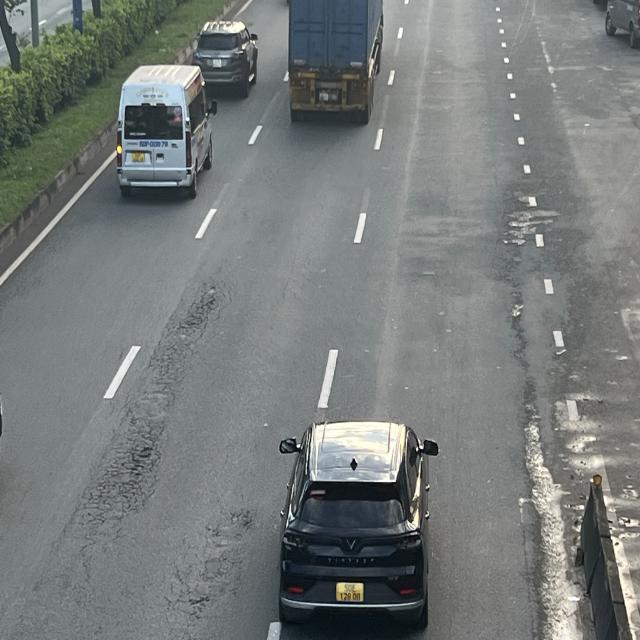car: (282, 415, 443, 625), (193, 17, 260, 93)
container: (286, 1, 387, 126)
van: (116, 64, 214, 200)
